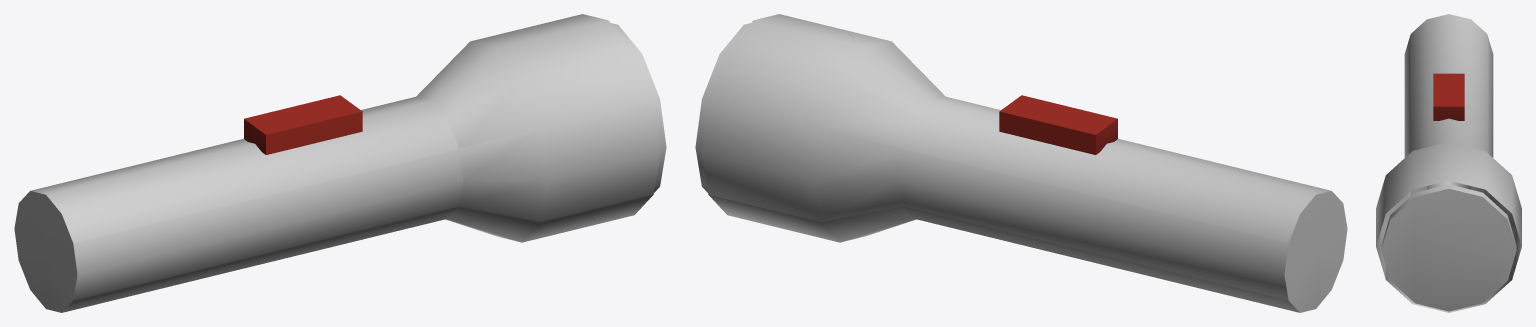
The model's file is linterna.glb.
3 views of the same model, side by side, from view 1: azimuth 30°, elevation 25°; view 2: azimuth 150°, elevation 25°; view 3: azimuth 270°, elevation 25° (orthographic). The views are drawn at different scales.
Visible parts, largest first — view 1: linterna; view 2: linterna; view 3: linterna.
Boxes of the visible parts, bbox=[...] form: linterna: bbox=[14, 14, 666, 312]; linterna: bbox=[695, 14, 1347, 312]; linterna: bbox=[1376, 14, 1521, 312].
Size of the model in its own units: 0.178 by 0.056 by 0.056.
